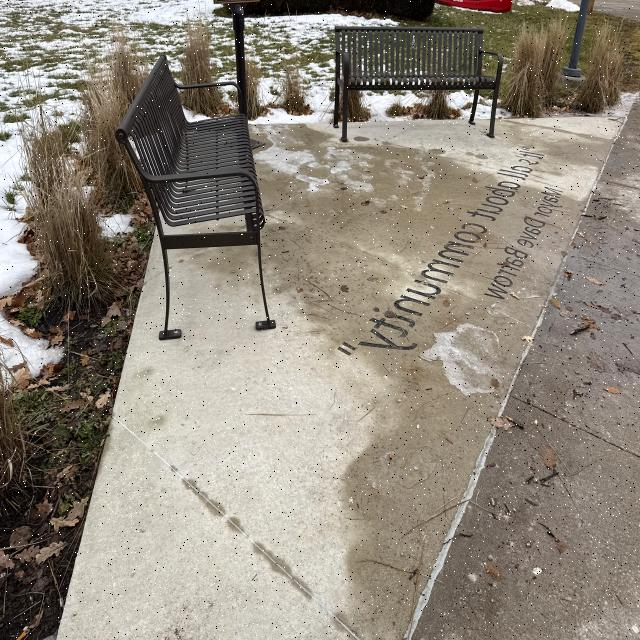Bench: (330, 16, 503, 145)
